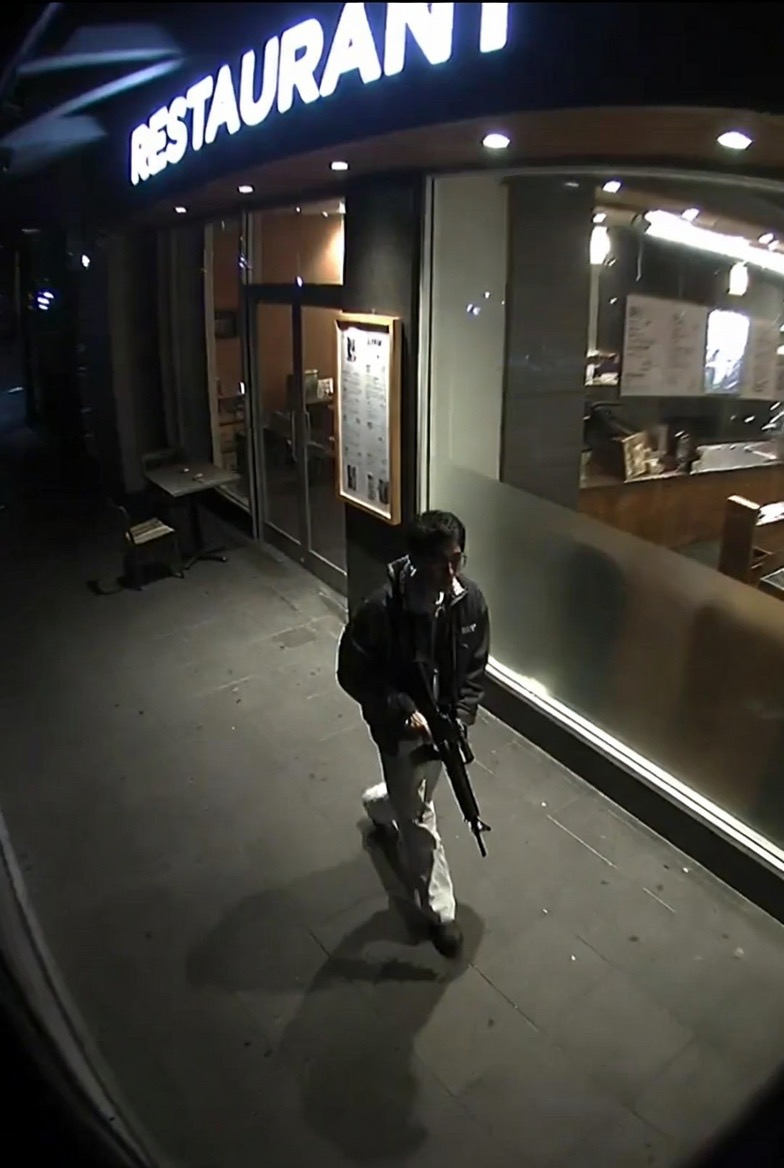person: (336, 509, 492, 959)
weapon: (403, 690, 492, 859)
